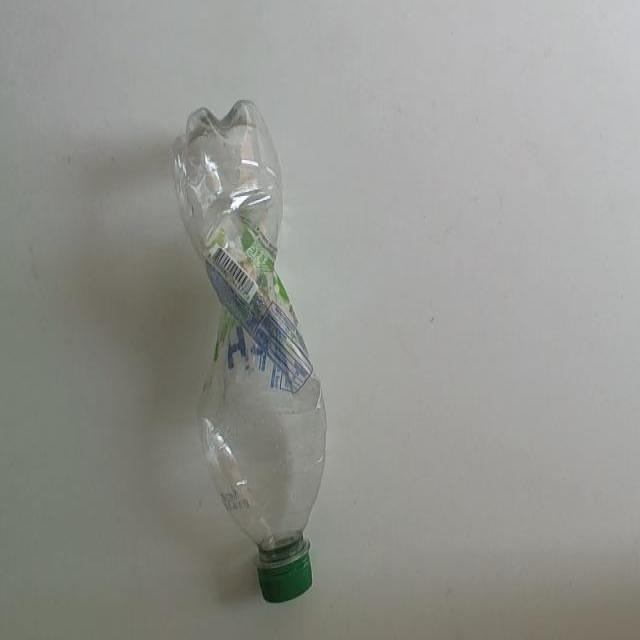defect: (168, 93, 330, 608)
